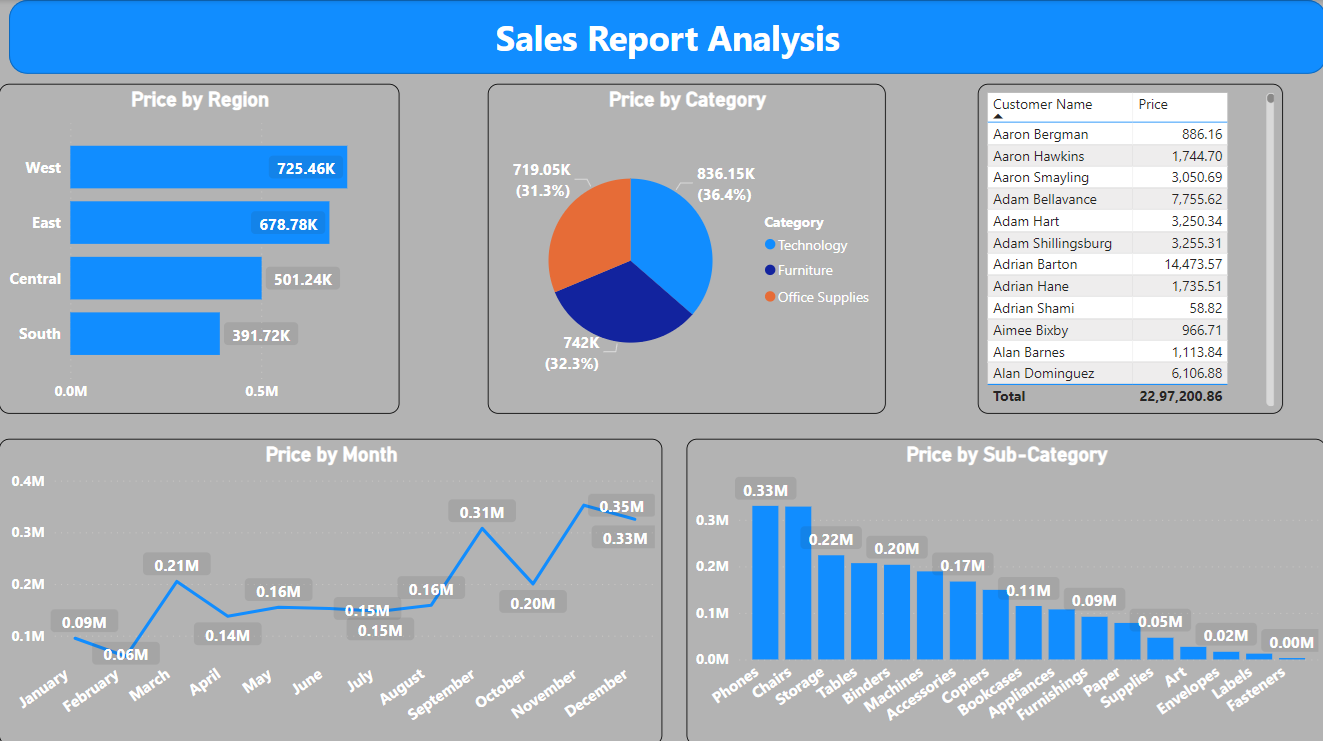

What the dashboard file says about the page in this screenshot:
{"tool":"powerbi","page":{"name":"Page 1","canvas":[1280,720],"ordinal":0},"visuals":[{"type":"shape","box":[9.6,0,1271,71.3],"z":0},{"type":"barChart","fields":{"Category":["Orders Data.Region"],"Y":["Orders Data.Price"]},"box":[0,80.9,386.6,318.1],"z":1},{"type":"pieChart","fields":{"Category":["Orders Data.Category"],"Y":["Orders Data.Price"]},"box":[471.6,80.9,383.9,318.1],"z":2},{"type":"clusteredColumnChart","fields":{"Category":["Orders Data.Sub-Category"],"Y":["Orders Data.Price"]},"box":[663.6,423.7,617,296.1],"z":3},{"type":"lineChart","fields":{"Category":["Orders Data.Order Date.Variation.Date Hierarchy.Month"],"Y":["Orders Data.Price"]},"box":[0,423.7,640.3,296.1],"z":4},{"type":"tableEx","fields":{"Values":["Orders Data.Customer Name","Orders Data.Price"]},"box":[976.2,80.9,263.2,296.1],"z":5}]}

Visuals, with their boxes in screenshot pixels (x1, y1, x2, y2), scaled from the page's 1280x720 canvas onto the 1323x741 screenshot:
shape: <box>10,0,1322,73</box>
barChart - Orders Data.Region x Orders Data.Price: <box>0,83,400,411</box>
pieChart - Orders Data.Category x Orders Data.Price: <box>487,83,884,411</box>
clusteredColumnChart - Orders Data.Sub-Category x Orders Data.Price: <box>686,436,1322,740</box>
lineChart - Orders Data.Order Date.Variation.Date Hierarchy.Month x Orders Data.Price: <box>0,436,662,740</box>
tableEx - Orders Data.Customer Name x Orders Data.Price: <box>1009,83,1281,388</box>
